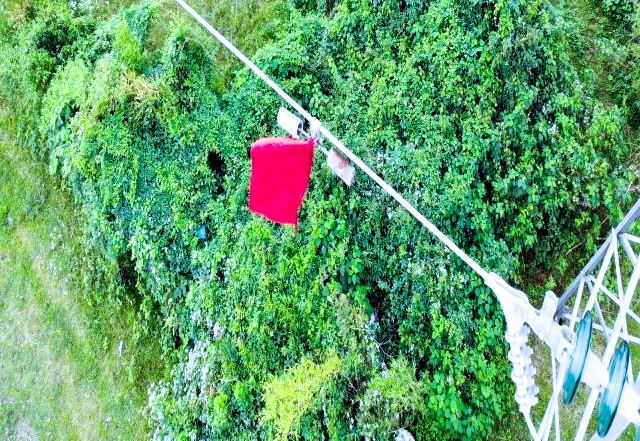wire foreign body: (237, 106, 343, 238)
